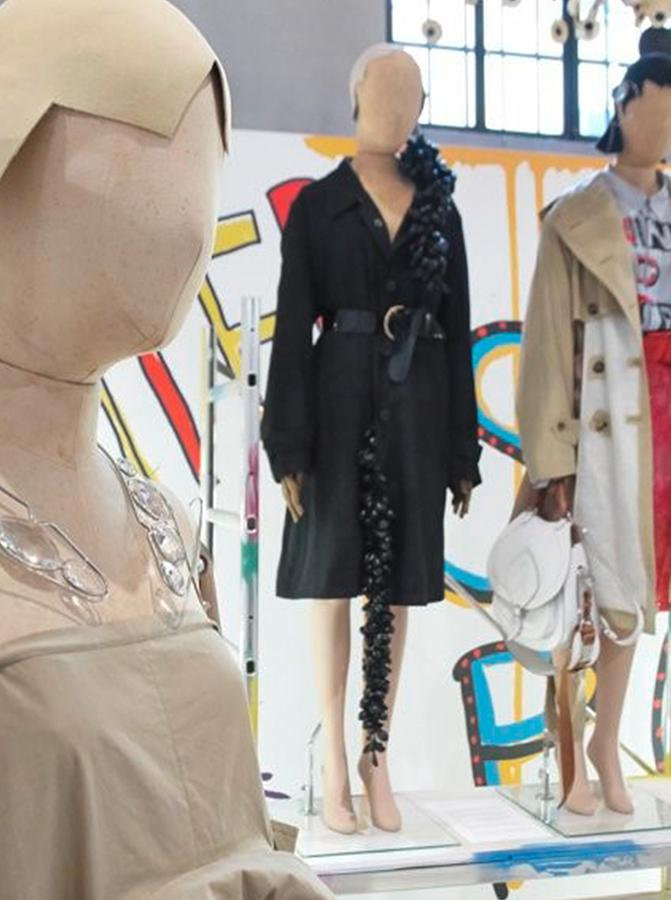person-like: (1, 4, 286, 899), (256, 36, 491, 839), (510, 15, 671, 819)
